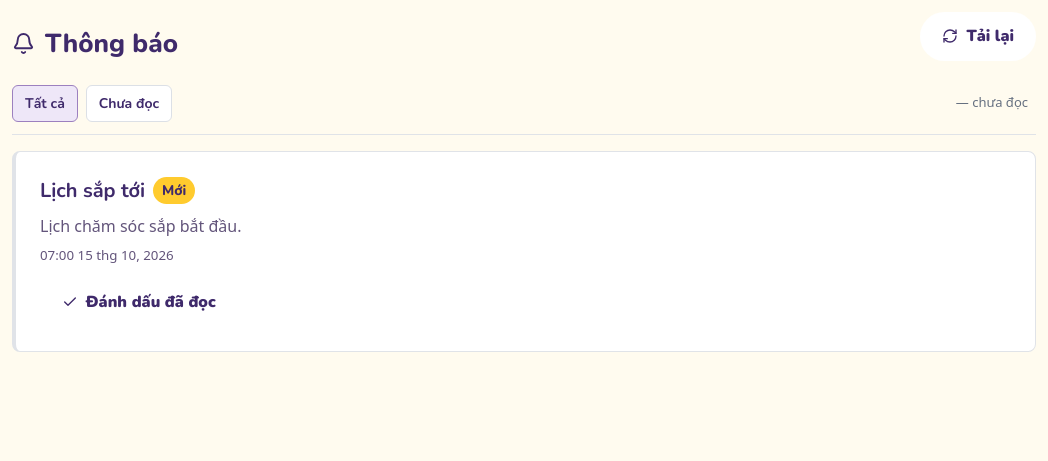
Test: NotificationsPage › keeps an item unread when markRead is error
Step 1. Click the button "Đánh dấu đã đọc" → [139, 302], box [40,278,238,327]
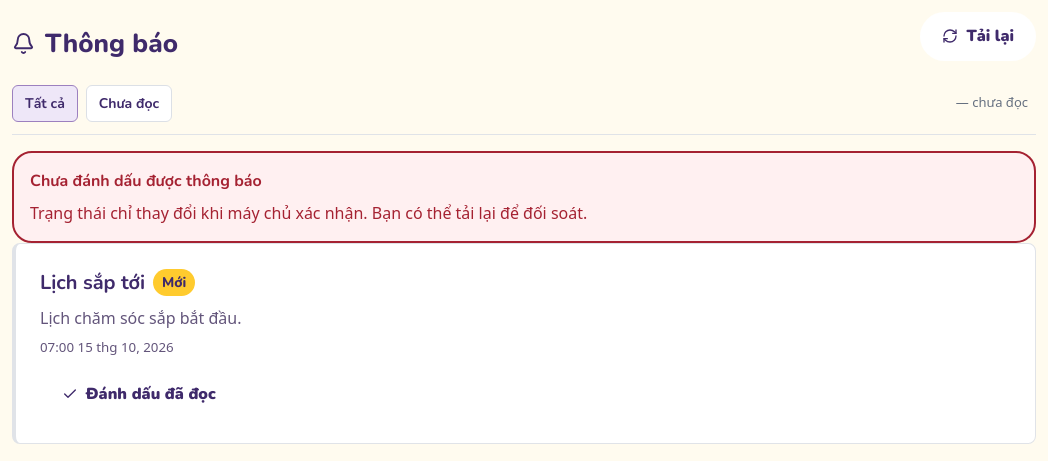
Expected: the button "Đánh dấu đã đọc" is enabled, [40,370,238,419]
Expected: the heading "Chưa đánh dấu được thông báo" is shown, [30,170,262,192]
